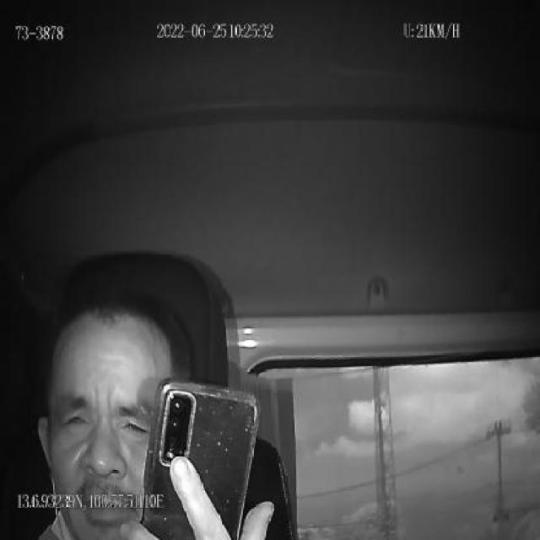phone: (142, 374, 260, 540)
